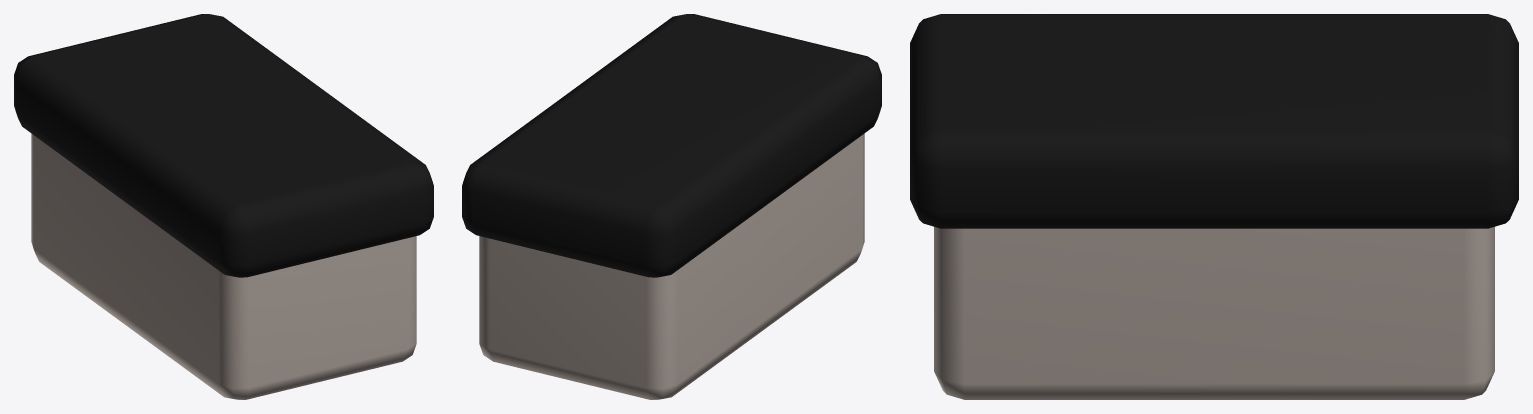
Rendered from stool_02_black.fbx.
3 renders of one model, left to right at view 1: azimuth 30°, elevation 25°; view 2: azimuth 150°, elevation 25°; view 3: azimuth 270°, elevation 25°, orthographic. The views are drawn at different scales.
Visible parts, largest first — view 1: stool_02_black; view 2: stool_02_black; view 3: stool_02_black.
Boxes of the visible parts, bbox=[...] form: stool_02_black: bbox=[14, 14, 433, 399]; stool_02_black: bbox=[462, 14, 881, 399]; stool_02_black: bbox=[910, 14, 1518, 399].
Bounding box in the file's own units: 42.91 × 39.33 × 78.81.
Materials: 1 (1 with a texture image).
